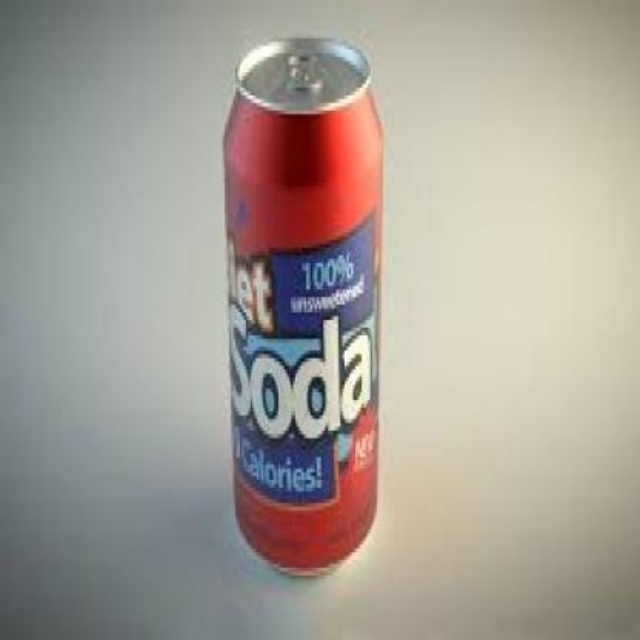trash: (225, 38, 382, 571)
